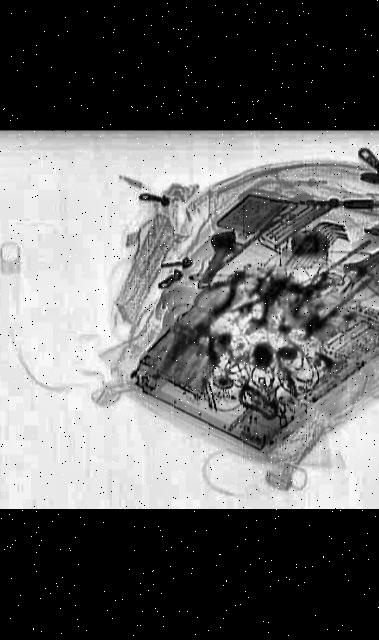Pliers: (189, 264, 258, 316)
Wrench: (339, 223, 379, 280)
